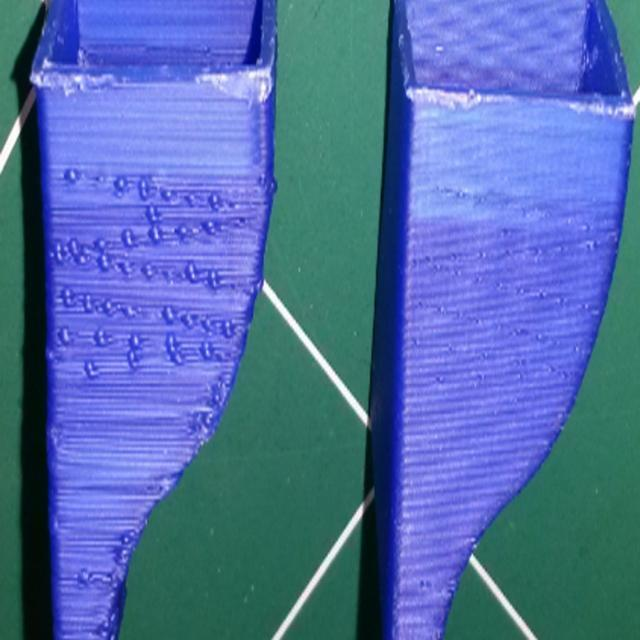blobs: (110, 171, 128, 205), (133, 174, 149, 208), (122, 228, 139, 258), (205, 264, 221, 294), (61, 282, 76, 314), (186, 258, 203, 286), (144, 218, 160, 246), (200, 312, 217, 338), (180, 312, 197, 338), (66, 232, 80, 262), (54, 324, 73, 346), (140, 262, 156, 288), (171, 347, 189, 369), (81, 359, 97, 382), (184, 186, 200, 209), (102, 294, 115, 322), (92, 168, 105, 196), (96, 252, 111, 276), (50, 238, 65, 262), (121, 300, 138, 320), (93, 323, 107, 347), (124, 350, 140, 370), (218, 322, 234, 342), (76, 250, 90, 272), (160, 187, 176, 206), (205, 190, 221, 208), (175, 224, 189, 244), (200, 342, 212, 364), (162, 309, 176, 327), (65, 162, 77, 183), (82, 296, 94, 316), (146, 210, 158, 228), (130, 332, 142, 349), (176, 224, 186, 244)
